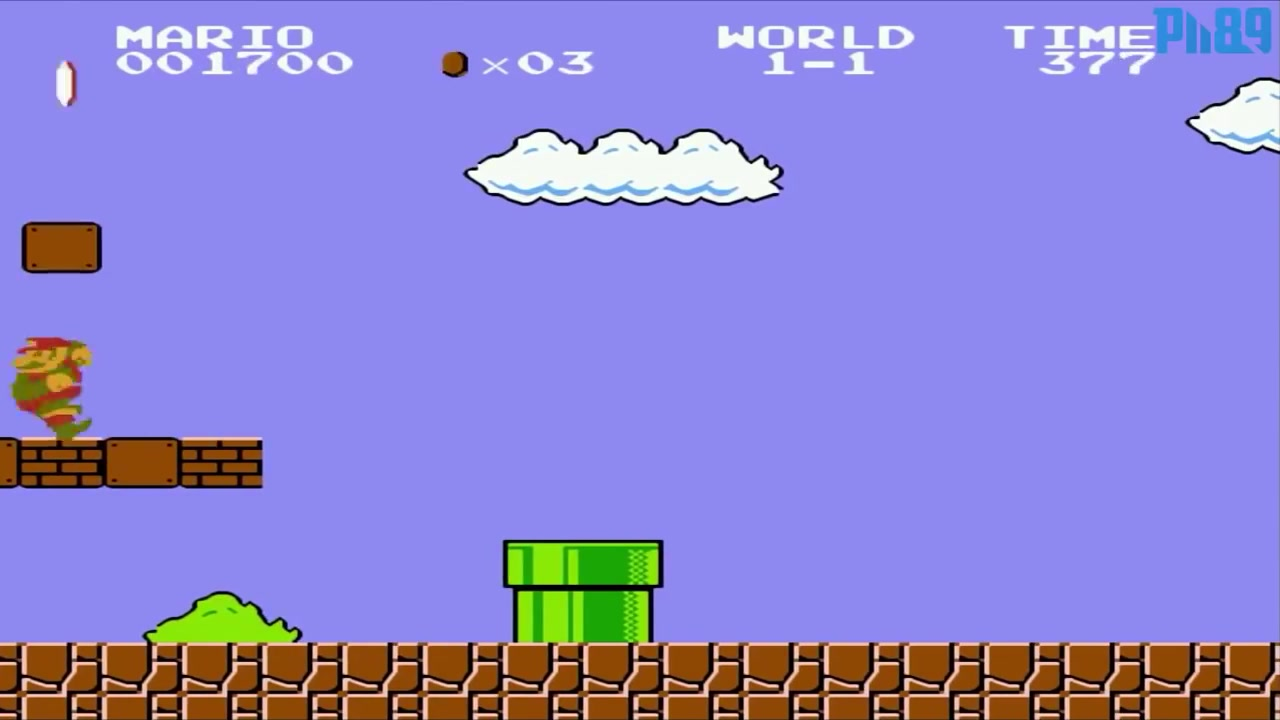mario: (9, 330, 97, 438)
